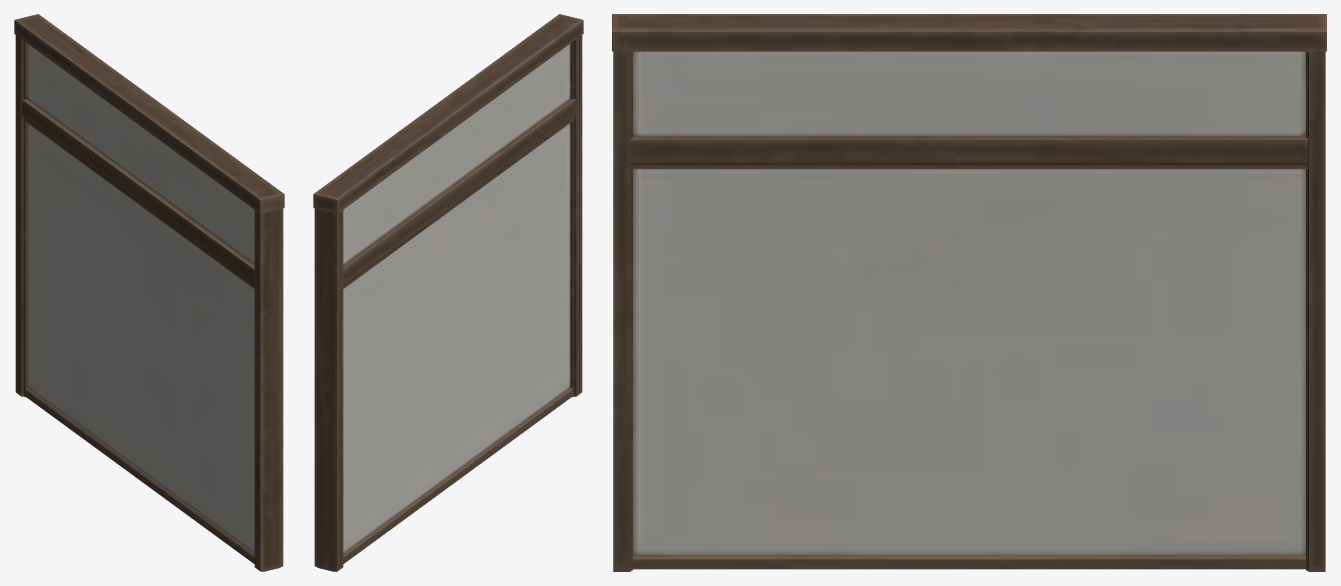
Rendered from Architecture_JapaneseStyle_WallA_191fd6.glb.
3 renders of one model, left to right at view 1: azimuth 30°, elevation 25°; view 2: azimuth 150°, elevation 25°; view 3: azimuth 270°, elevation 25°, orthographic. The views are drawn at different scales.
Bounding box in the file's own units: 0.2304 × 3.37 × 4.02.
1 material, 1 textured.
